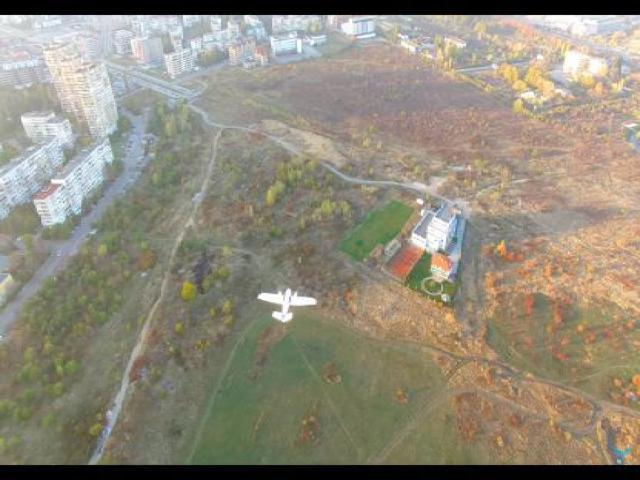uav: (252, 284, 322, 330)
